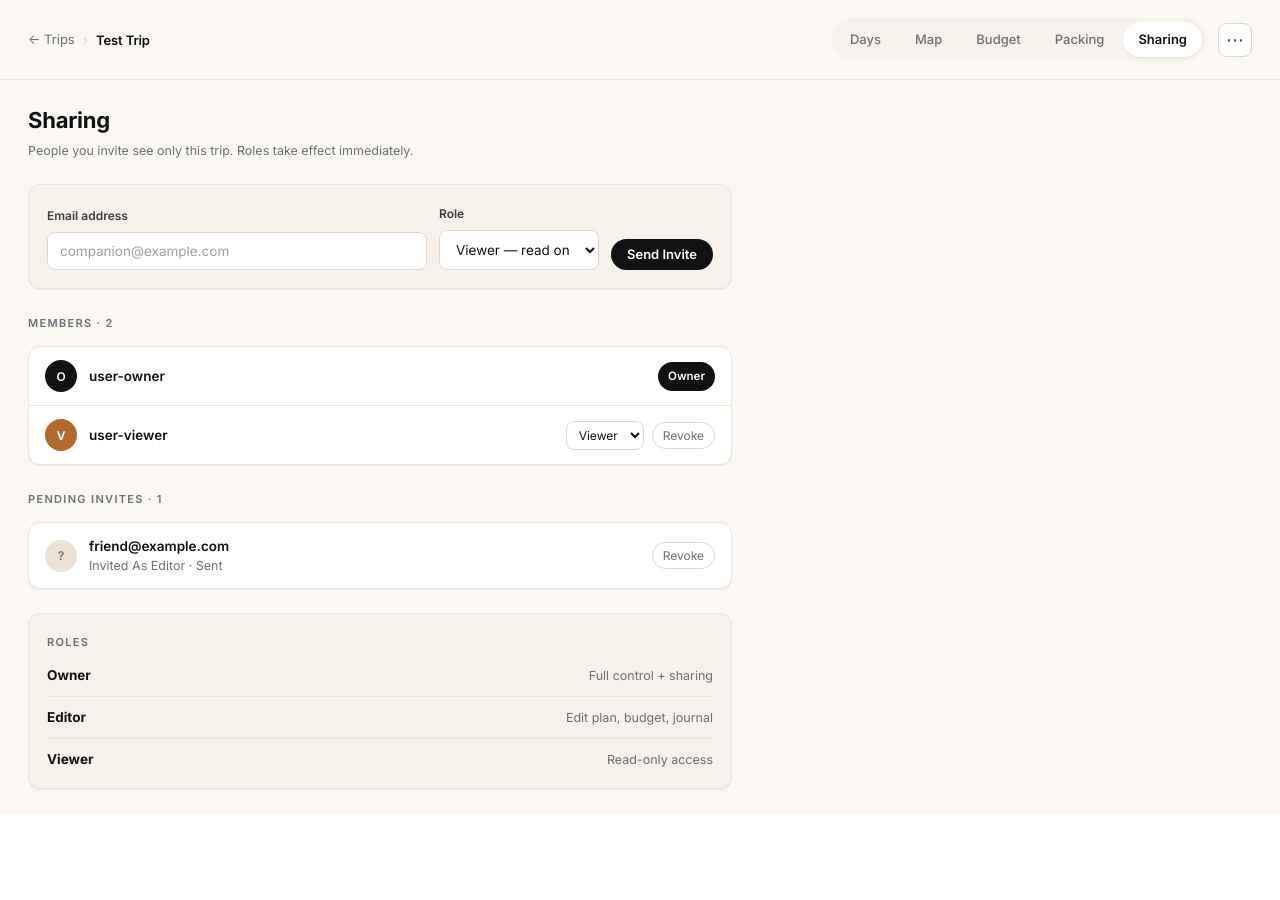
Test: TripSharingPage › clears the malformed-email flag once the address becomes valid
In the field labelled "Email address": (237, 251) [47,232,427,270], type "bad"
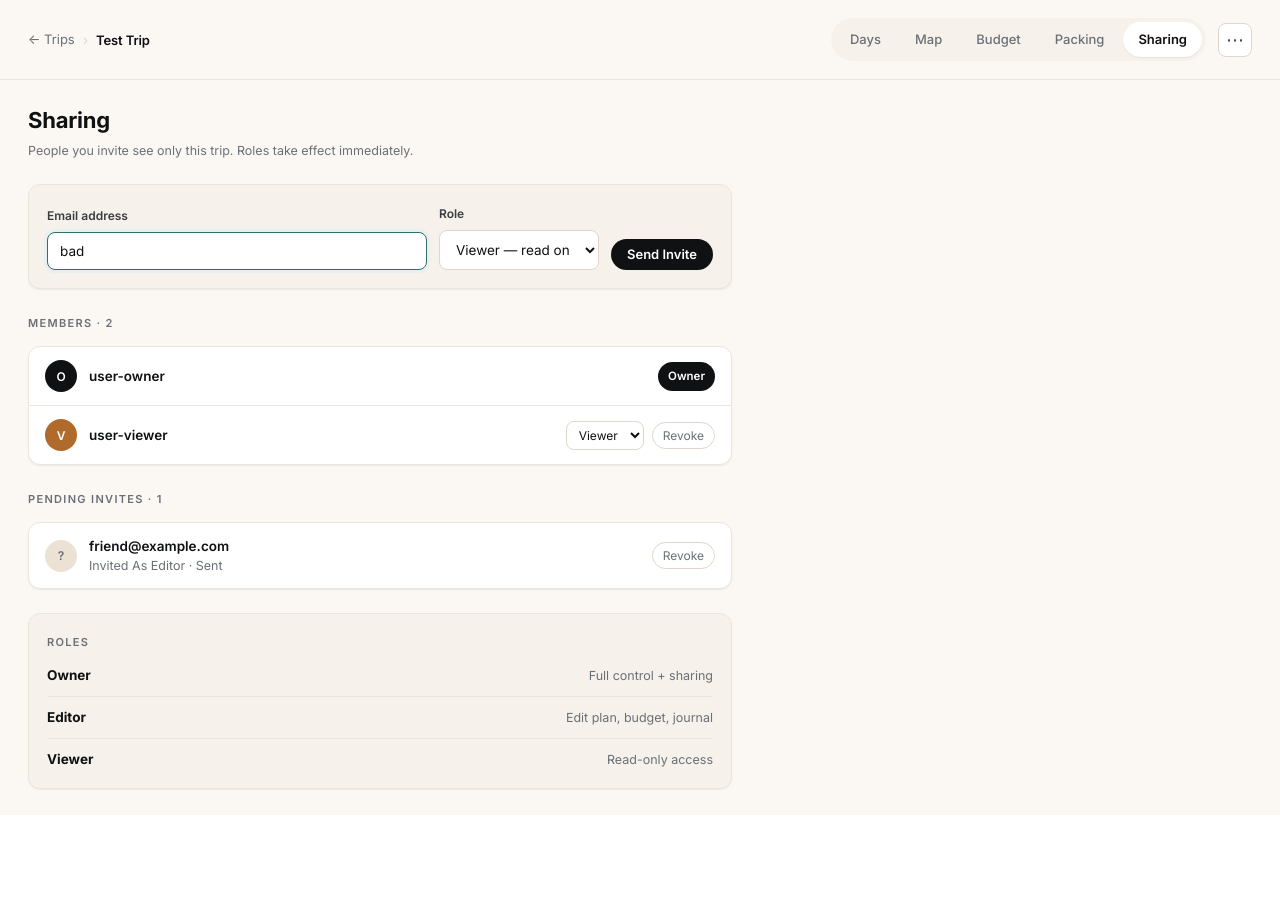
Press Tab
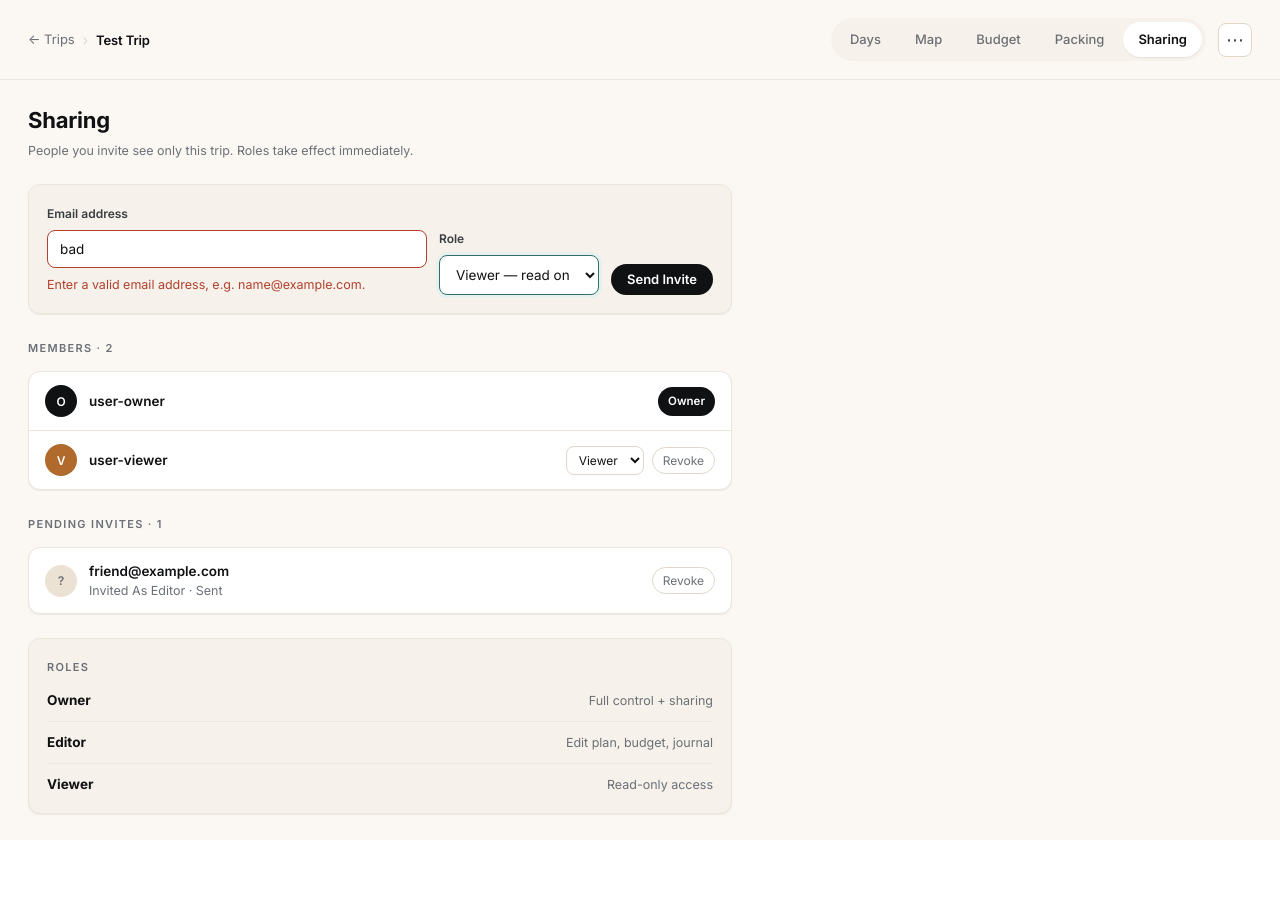
Check: the field labelled "Email address" is marked as invalid
In the field labelled "Email address": (237, 249) [47,230,427,268], type "@example.com"
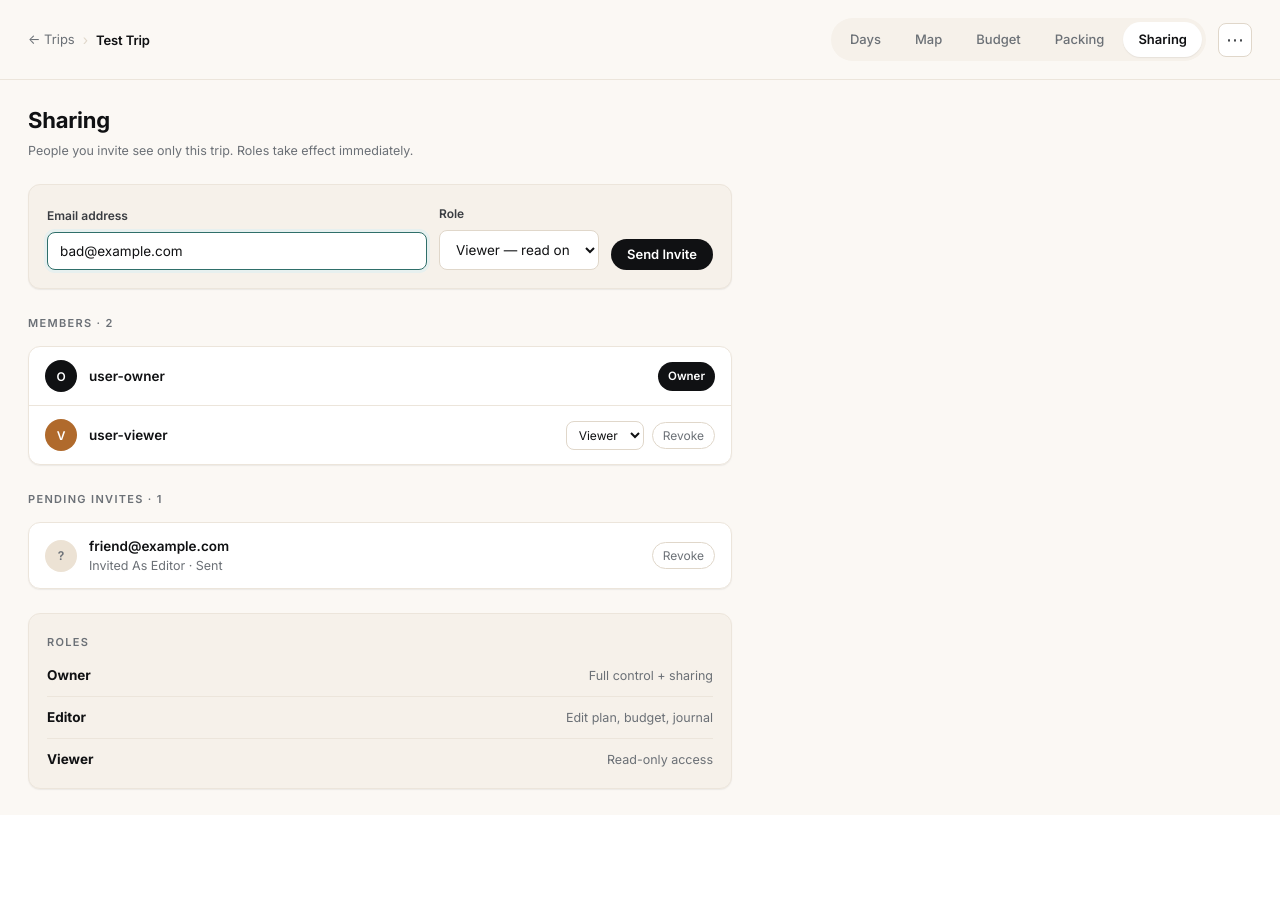
Check: the button "Send Invite" is enabled, box [611,239,713,270]
